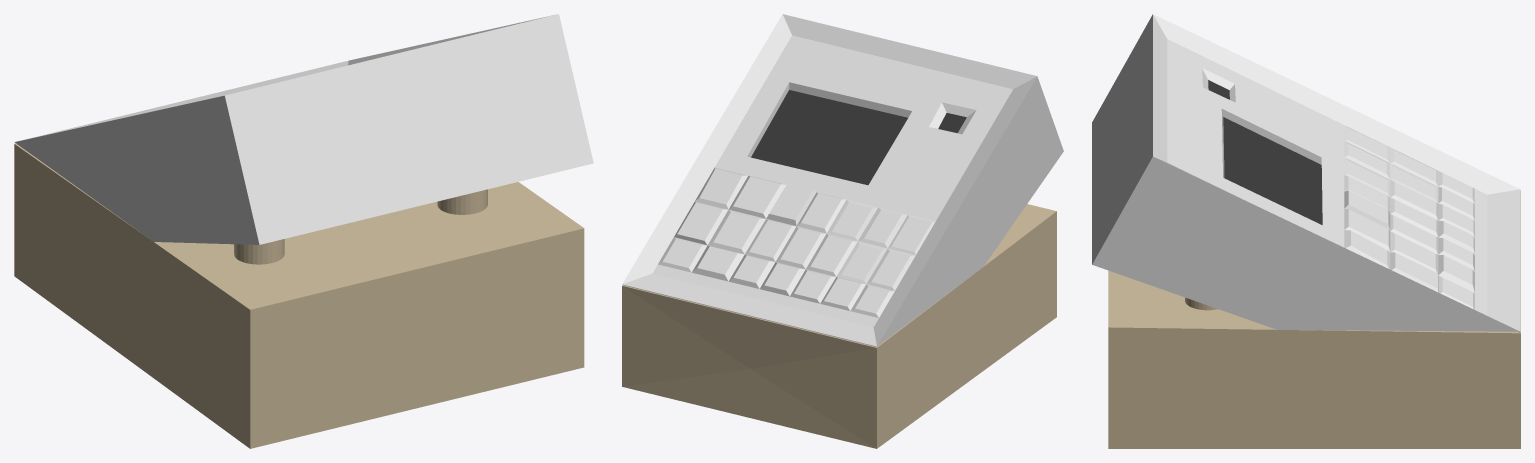
File: register2.fbx
3 renders of one model, left to right at view 1: azimuth 30°, elevation 25°; view 2: azimuth 150°, elevation 25°; view 3: azimuth 270°, elevation 25°, orthographic. The views are drawn at different scales.
Parts seen in each view (by area): view 1: Cylinder.001; view 2: Cylinder.001; view 3: Cylinder.001.
Boxes of the visible parts, bbox=[...] form: Cylinder.001: bbox=[14, 14, 593, 448]; Cylinder.001: bbox=[622, 14, 1063, 448]; Cylinder.001: bbox=[1092, 14, 1520, 448].
Bounding box in the file's own units: 330 × 316 × 420.
